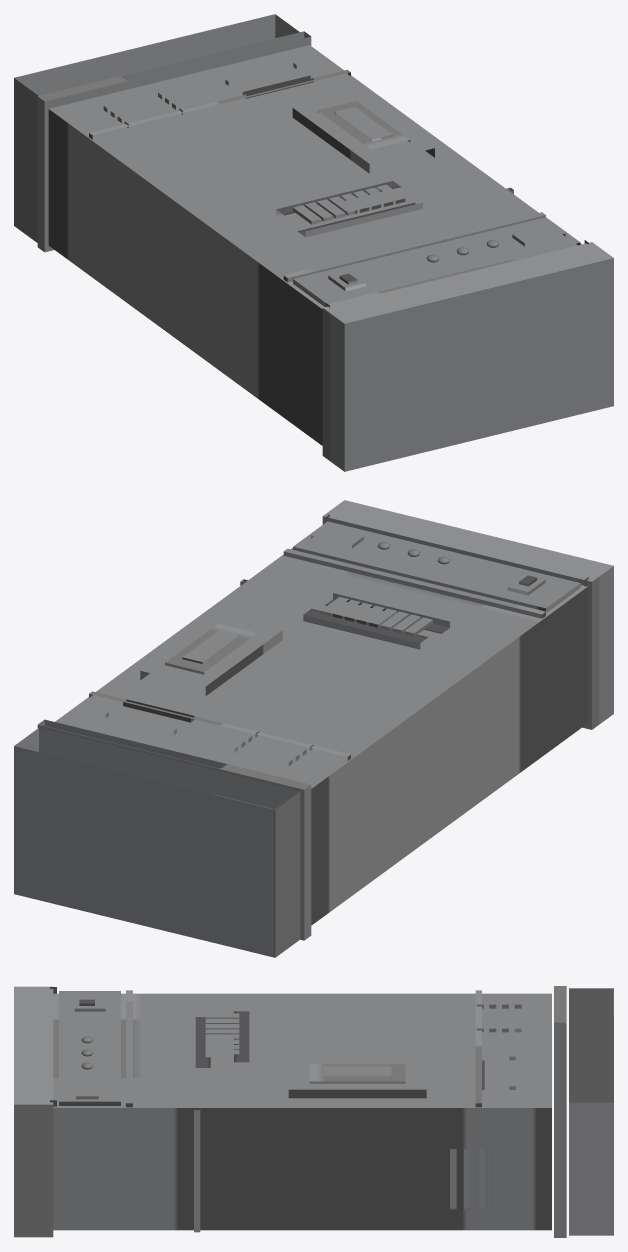
3 views of the same model, one above another, from view 1: azimuth 30°, elevation 25°; view 2: azimuth 150°, elevation 25°; view 3: azimuth 270°, elevation 25° (orthographic). The views are drawn at different scales.
Bounding box in the file's own units: 0.992 × 0.5555 × 2.13.
